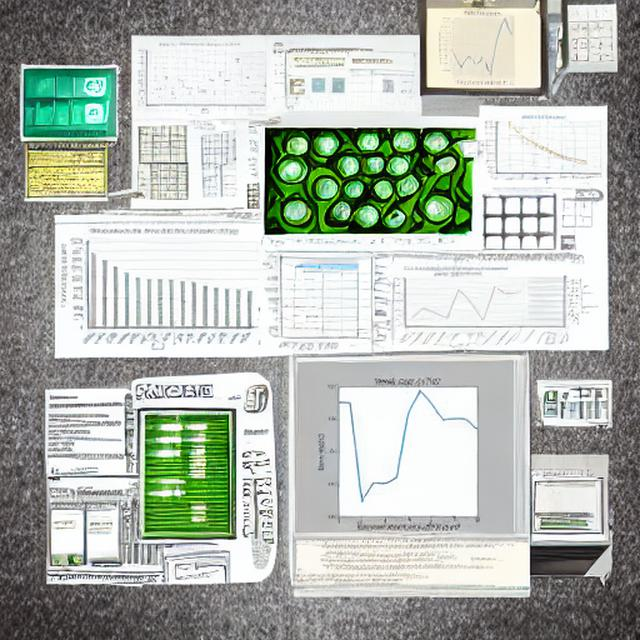Graph: (297, 370, 514, 533), (57, 225, 258, 355), (387, 264, 528, 349), (134, 41, 269, 118), (479, 113, 605, 187), (430, 7, 533, 84)
